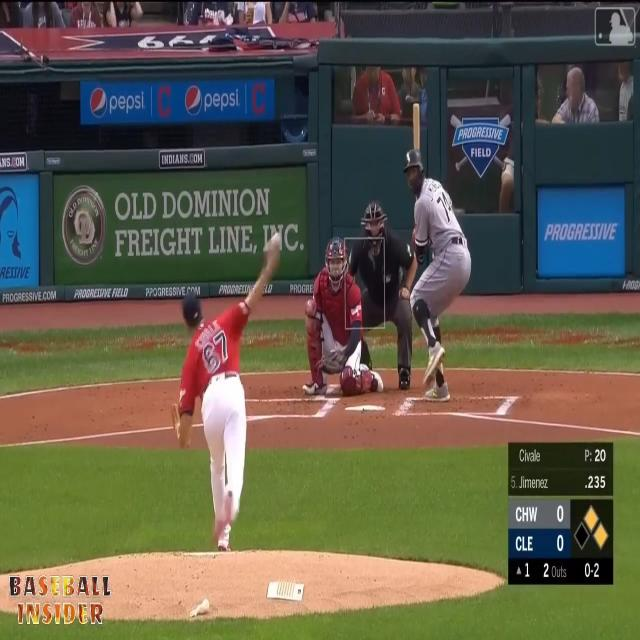baseball: (271, 230, 282, 248)
